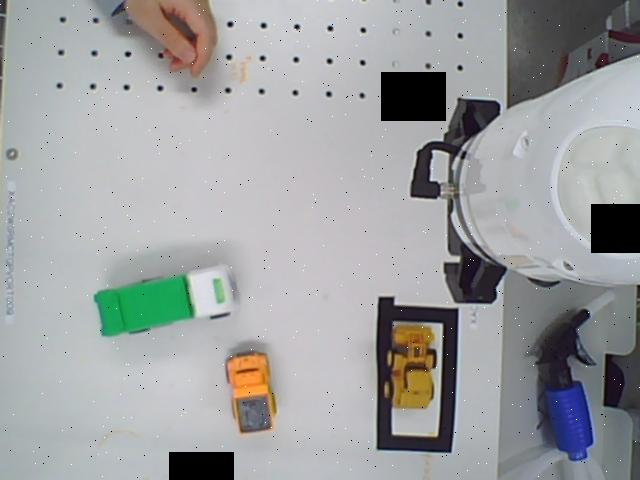Diesel car: (221, 344, 273, 431)
Electric car: (88, 253, 243, 338)
Gasoline car: (378, 319, 438, 412)
